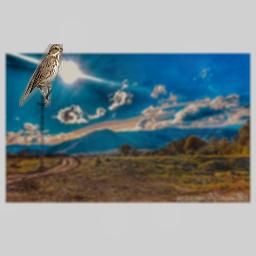Sparrow: (19, 44, 63, 107)
